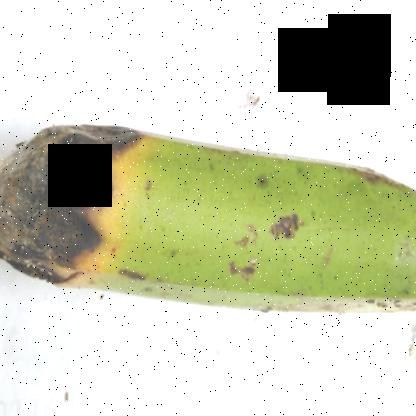rotten: (1, 91, 164, 299)
unripe: (145, 110, 415, 329)
